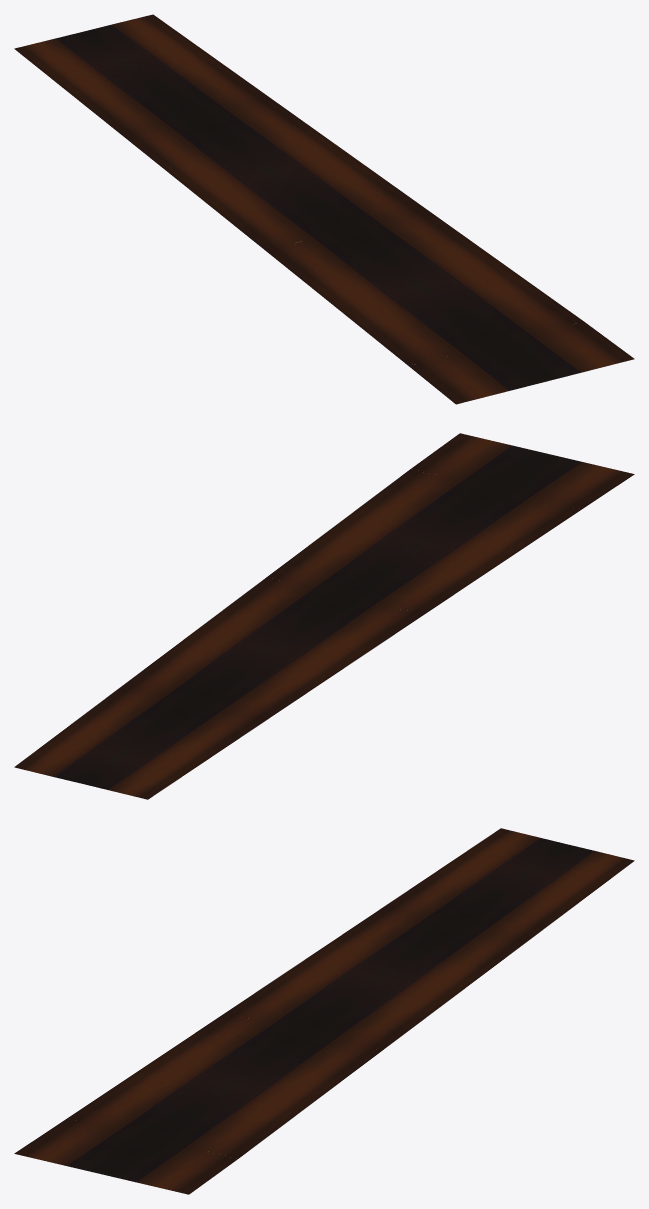
The model's file is tx_shex001_dm.FBX.
3 renders of one model, top to bottom at view 1: azimuth 30°, elevation 25°; view 2: azimuth 150°, elevation 25°; view 3: azimuth 330°, elevation 25°, orthographic. The views are drawn at different scales.
Visible parts, largest first — view 1: tx_shex001_dm; view 2: tx_shex001_dm; view 3: tx_shex001_dm.
Part boxes in pixels (left/top/right/bottom): tx_shex001_dm: left=14, top=14, right=634, bottom=404; tx_shex001_dm: left=14, top=433, right=634, bottom=799; tx_shex001_dm: left=14, top=828, right=634, bottom=1194.
Size of the model in its own units: 8.61 by 1.12e-05 by 39.16.
